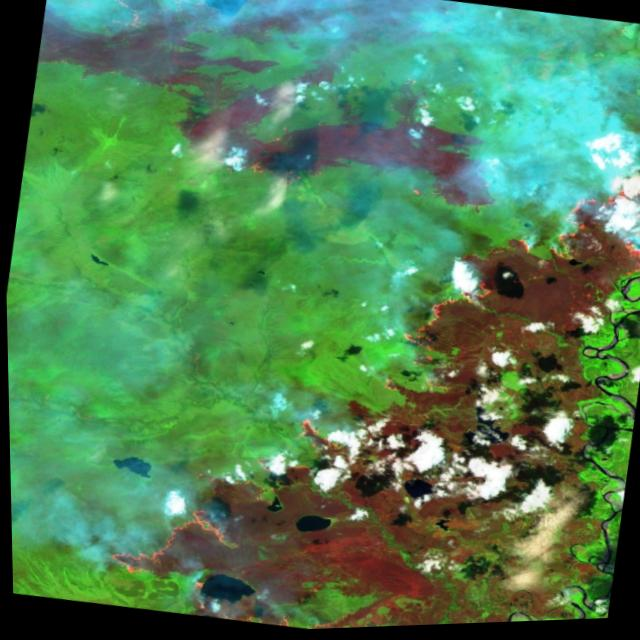fire: (93, 446, 288, 630), (382, 220, 537, 391), (540, 162, 640, 290), (228, 124, 320, 193), (267, 401, 354, 472), (362, 367, 459, 427)
